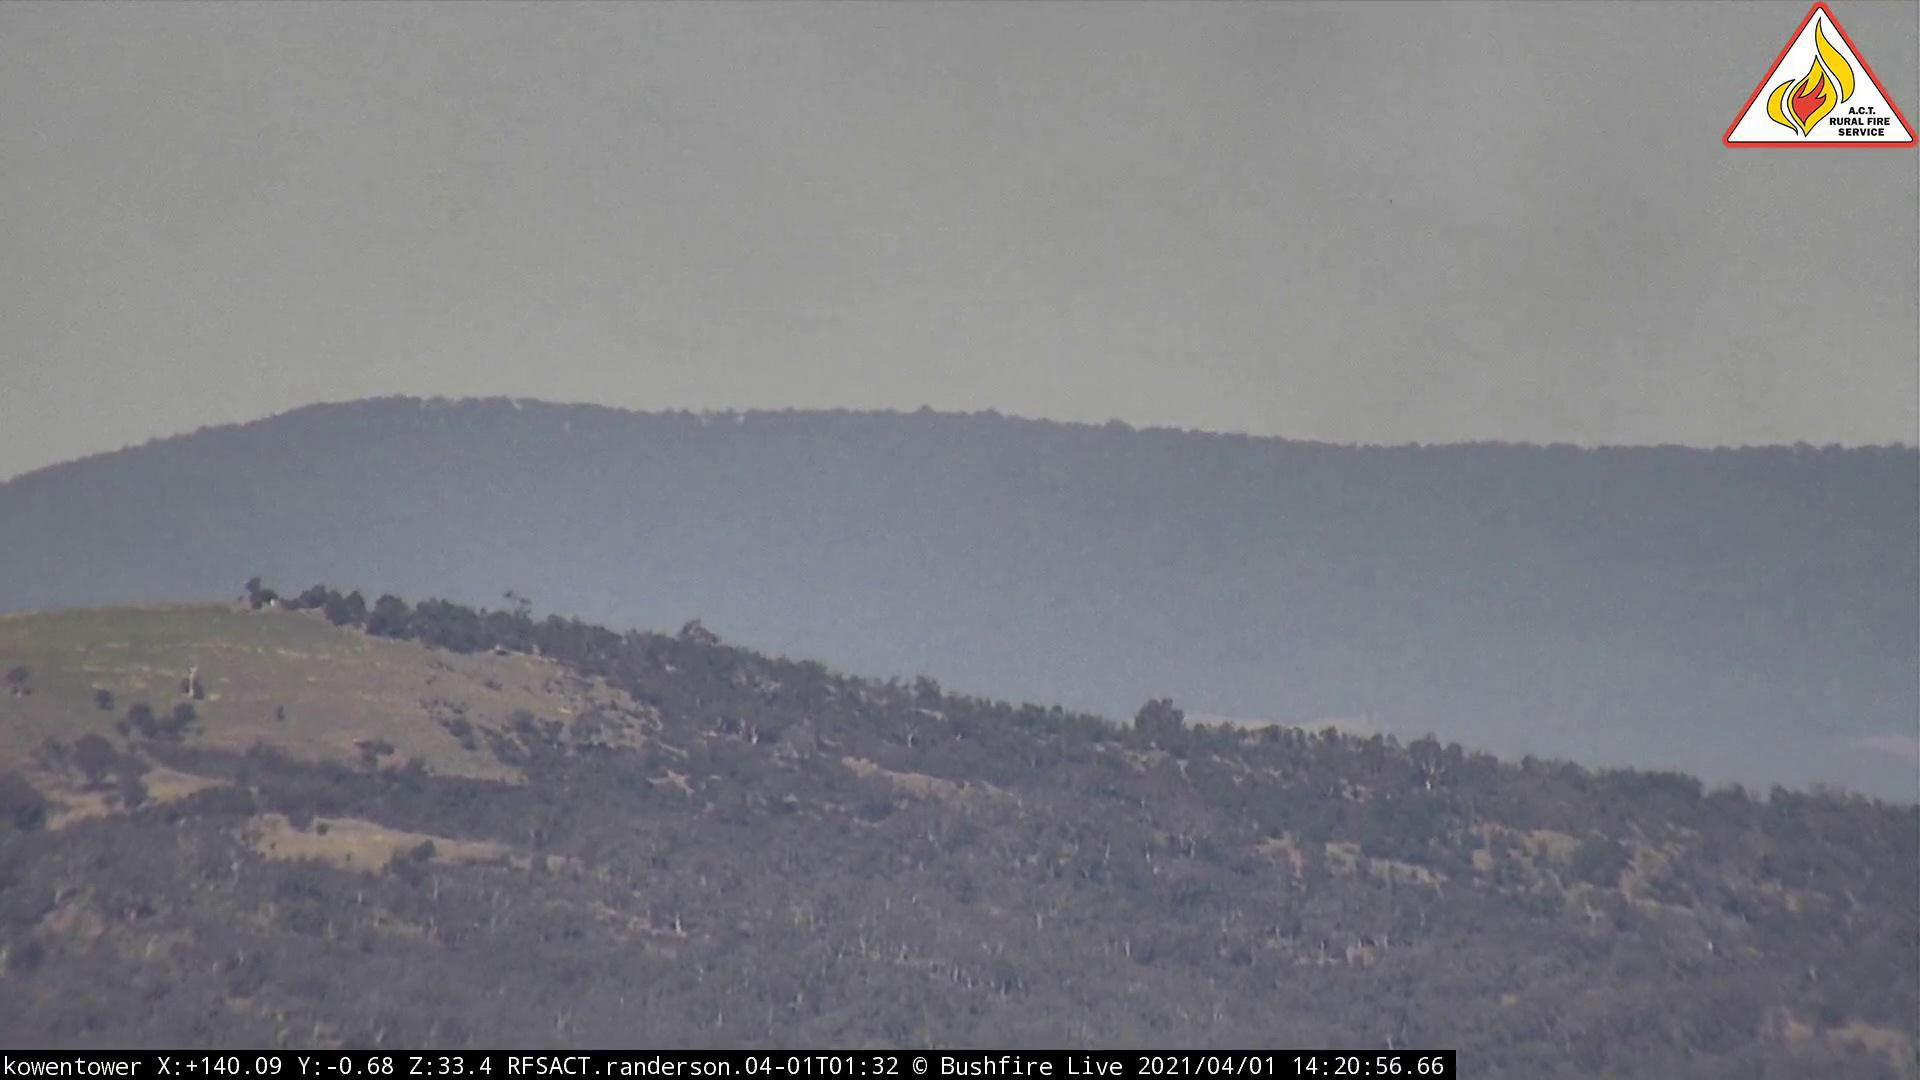Smoke: (835, 42, 1602, 553)
